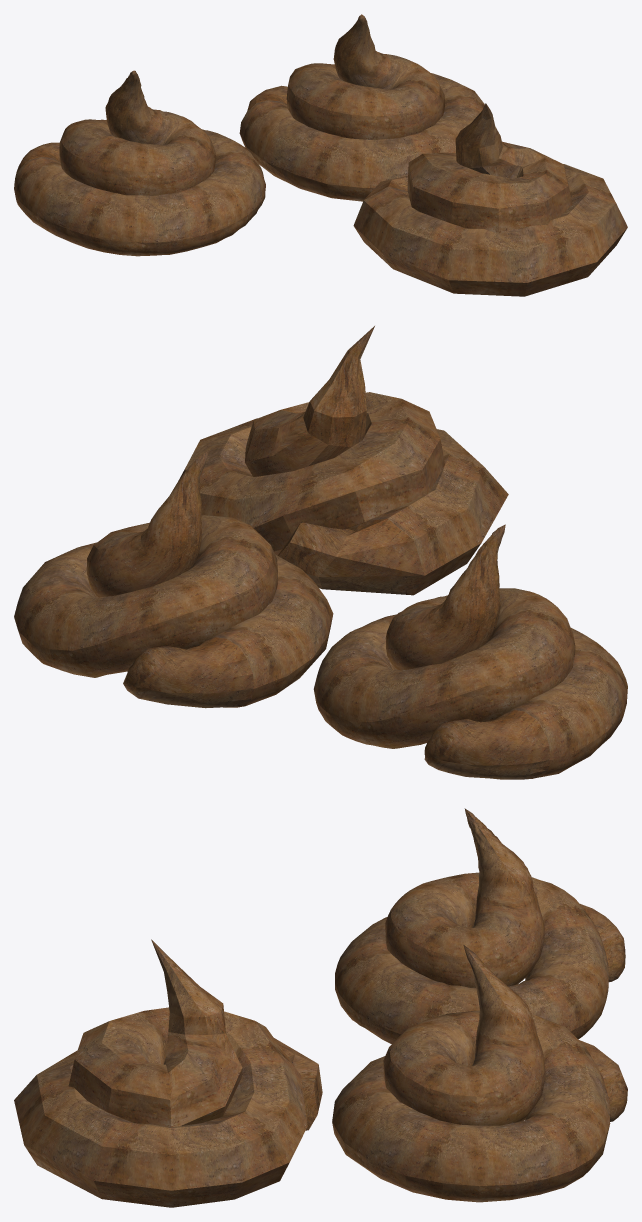
The model's file is DogPoo.FBX.
3 renders of one model, top to bottom at view 1: azimuth 30°, elevation 25°; view 2: azimuth 150°, elevation 25°; view 3: azimuth 270°, elevation 25°, orthographic. The views are drawn at different scales.
Visible parts, largest first — view 1: PooLow, PooHigh, PooMedium; view 2: PooMedium, PooHigh, PooLow; view 3: PooLow, PooMedium, PooHigh.
Part boxes in pixels (bbox=[...]): PooLow: bbox=[353, 103, 627, 296]; PooHigh: bbox=[14, 70, 265, 256]; PooMedium: bbox=[239, 14, 484, 201]; PooMedium: bbox=[14, 450, 333, 708]; PooHigh: bbox=[313, 524, 627, 779]; PooLow: bbox=[178, 326, 508, 595]; PooLow: bbox=[14, 939, 322, 1207]; PooMedium: bbox=[332, 945, 627, 1202]; PooHigh: bbox=[335, 808, 625, 1043].
Bounding box in the file's own units: 13.31 × 4.49 × 12.69.
